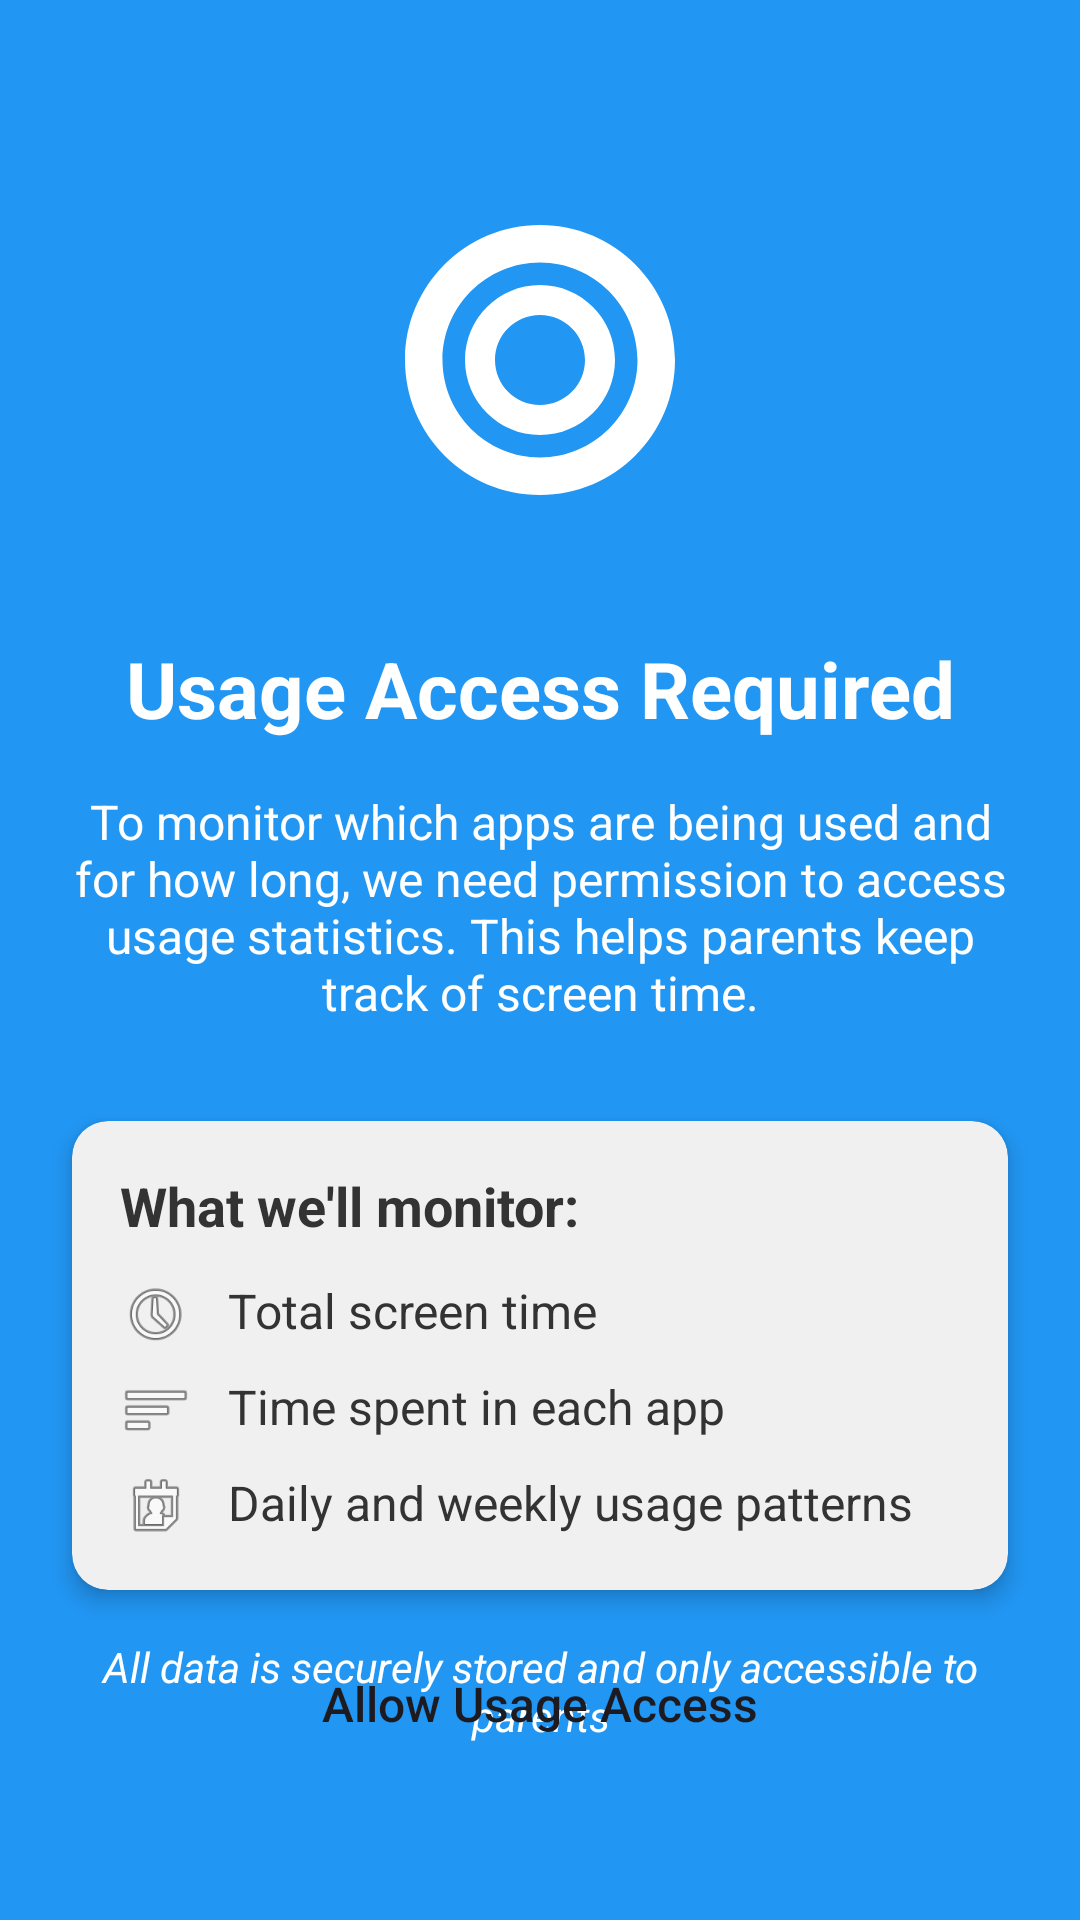

Point at icon controls on the screen. Image size 1080x1920, points as [x,y].
App usage icon: [156,1410]
